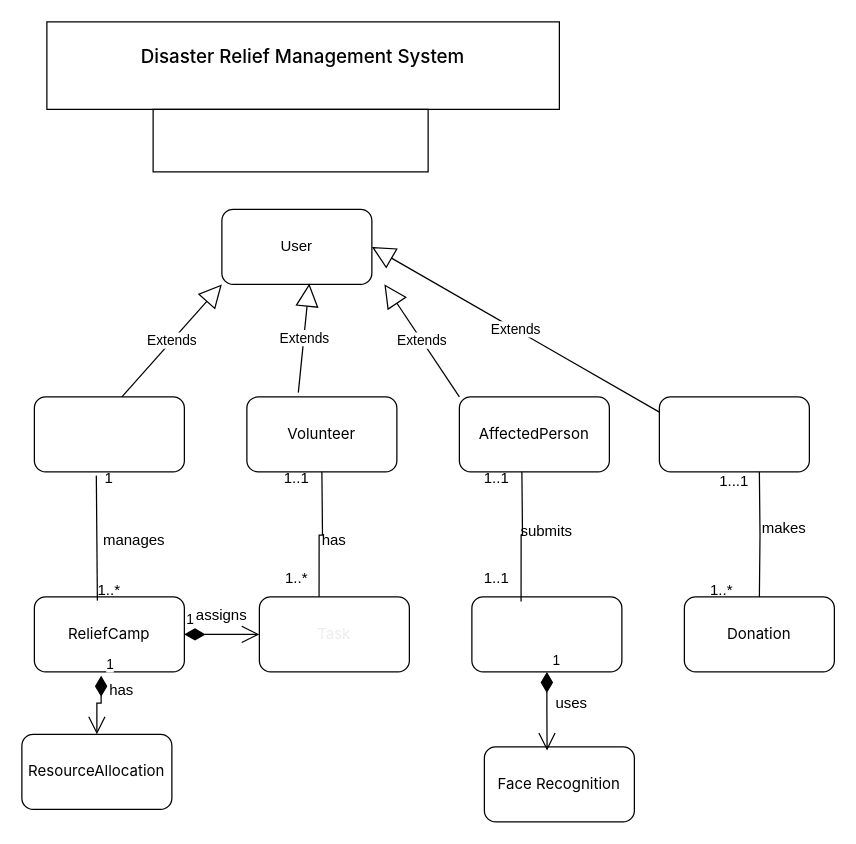
This 856x844 diagram has some shape labels left out. Each missing label, with the centre of its shape:
"Admin" belongs at pixel 108 434.
"Aid Request" belongs at pixel 546 634.
"Class Diagram" belongs at pixel 290 140.
"Donor" belongs at pixel 733 434.
